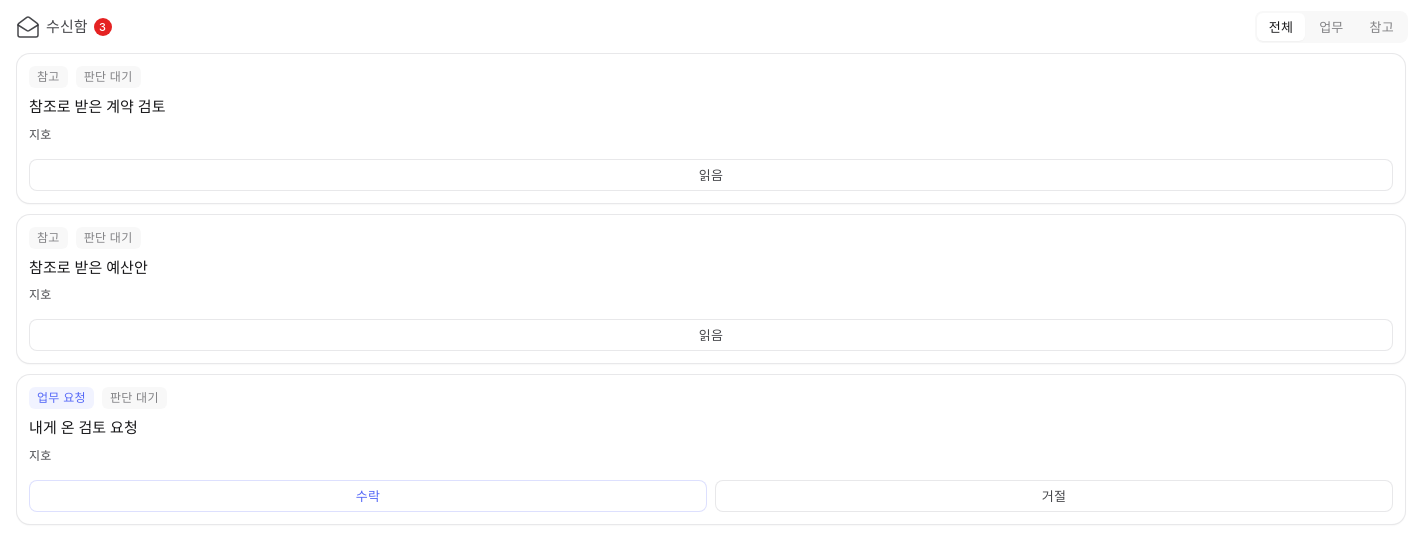
Scenario: 참고 항목 읽음 › 읽으면 그 카드만 수신함에서 빠지고 뱃지가 준다
The width and height of the screenshot is (1423, 542).
Expected: the button "참조로 받은 계약 검토" is shown, top-left (29, 96), bottom-right (166, 118)
Expected: the text "3" is shown, top-left (94, 18), bottom-right (112, 36)
Click the 1st button "읽음" at (711, 174), box top-left (29, 158), bottom-right (1393, 190)
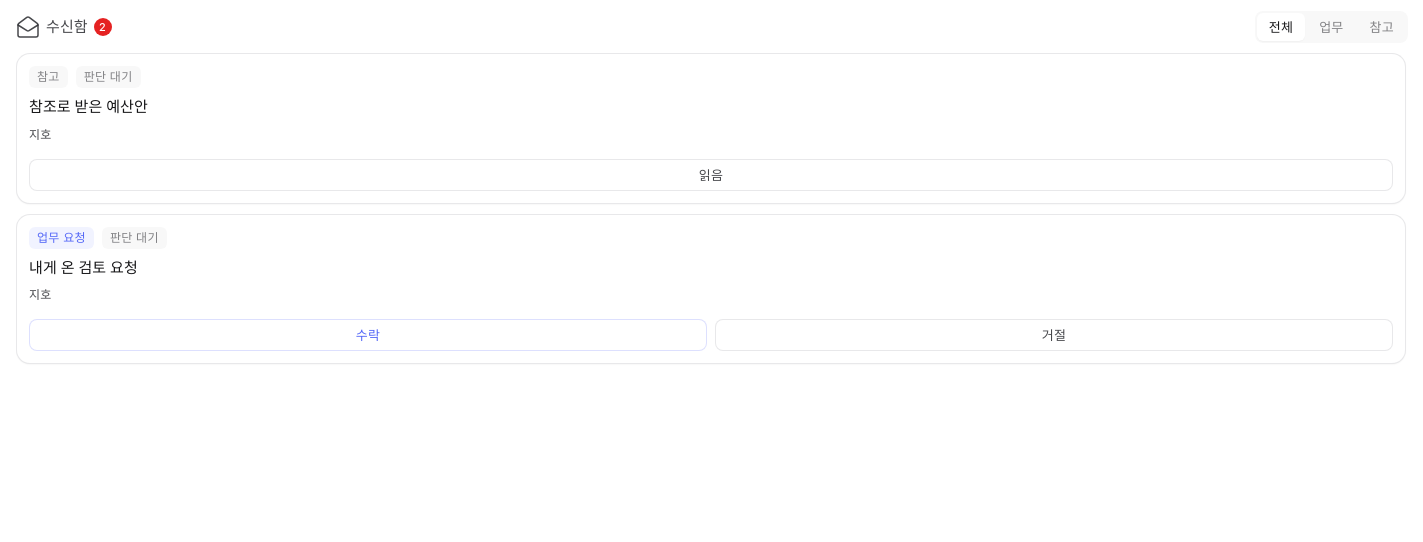
Expected: the button "참조로 받은 예산안" is shown, top-left (29, 96), bottom-right (148, 118)
Result: the button "참조로 받은 계약 검토" is gone
Result: the text "2" is shown at top-left (94, 18), bottom-right (112, 36)
